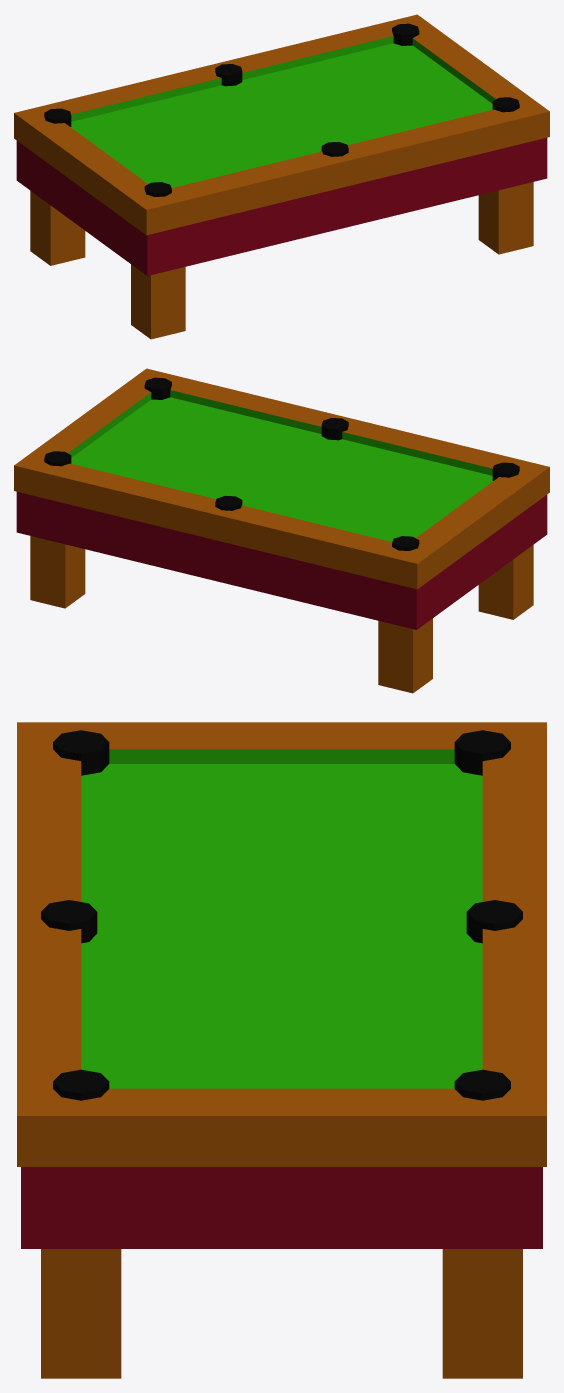
The model's file is table_body.glb.
3 views of the same model, one above another, from view 1: azimuth 30°, elevation 25°; view 2: azimuth 150°, elevation 25°; view 3: azimuth 270°, elevation 25° (orthographic). The views are drawn at different scales.
Visible parts, largest first — view 1: Table; view 2: Table; view 3: Table.
Part boxes in pixels (x1,y1,x2,y2): Table: (14, 14, 549, 339); Table: (14, 368, 549, 693); Table: (17, 722, 546, 1378).
Size of the model in its own units: 2.32 by 0.77 by 1.32.
